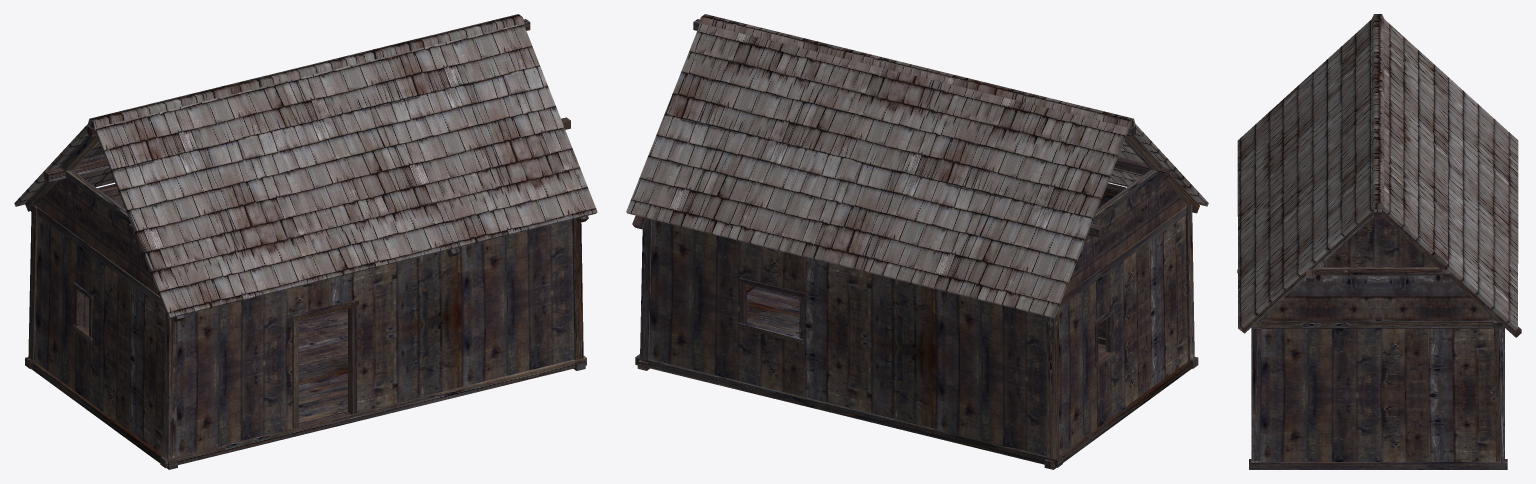
File: shed.glb
3 renders of one model, left to right at view 1: azimuth 30°, elevation 25°; view 2: azimuth 150°, elevation 25°; view 3: azimuth 270°, elevation 25°, orthographic. The views are drawn at different scales.
Parts seen in each view (by area): view 1: shed; view 2: shed; view 3: shed.
Boxes of the visible parts, x1=… form: shed: x1=14, y1=14, x2=597, y2=469; shed: x1=626, y1=14, x2=1208, y2=469; shed: x1=1237, y1=14, x2=1521, y2=469.
Size of the model in its own units: 3.91 by 2.5 by 2.39.
3 materials, 3 textured.
